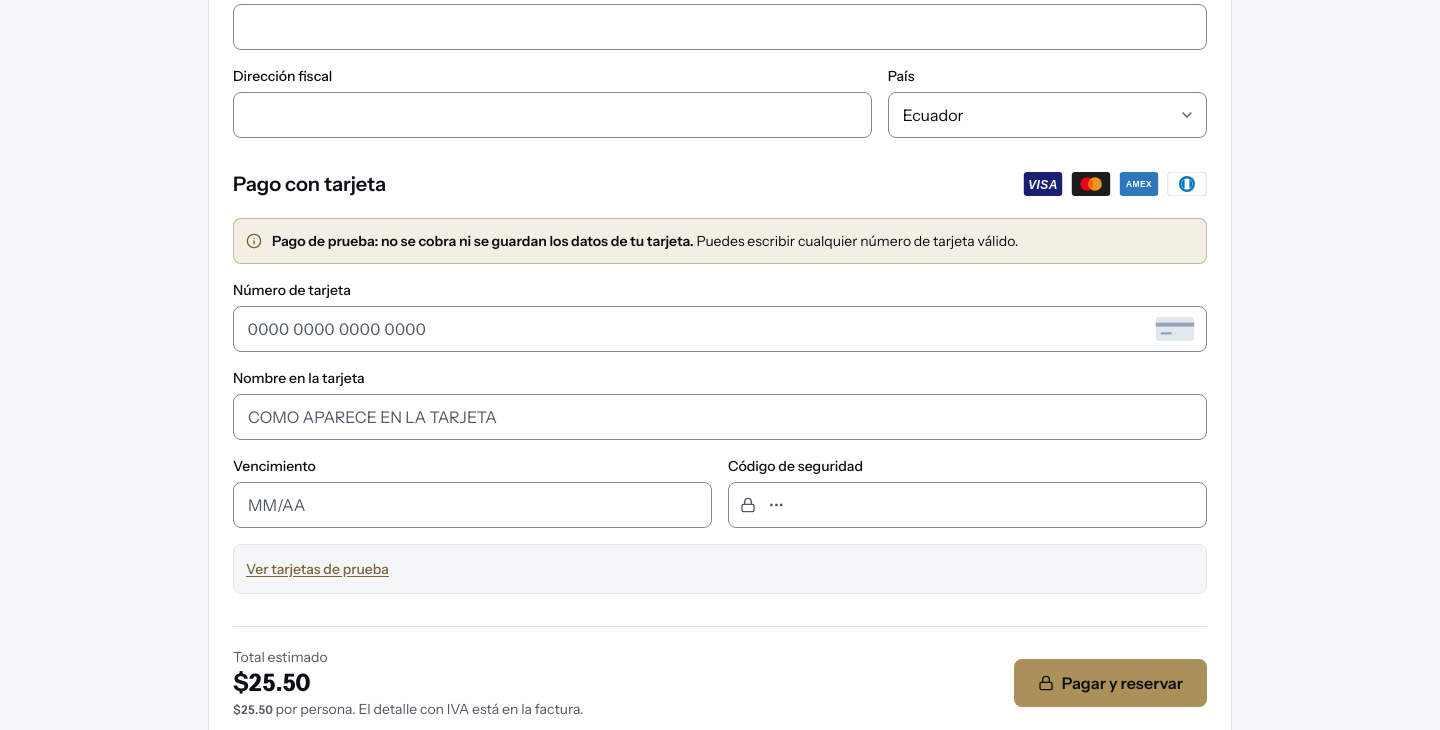
Test: Experience reservation › does not send anything until the form and the card are valid
(page scrolled)
Step 1. Click the button "Pagar y reservar" → {"x": 1110, "y": 683}, box x1=1014 y1=659 x2=1207 y2=707
(page scrolled)
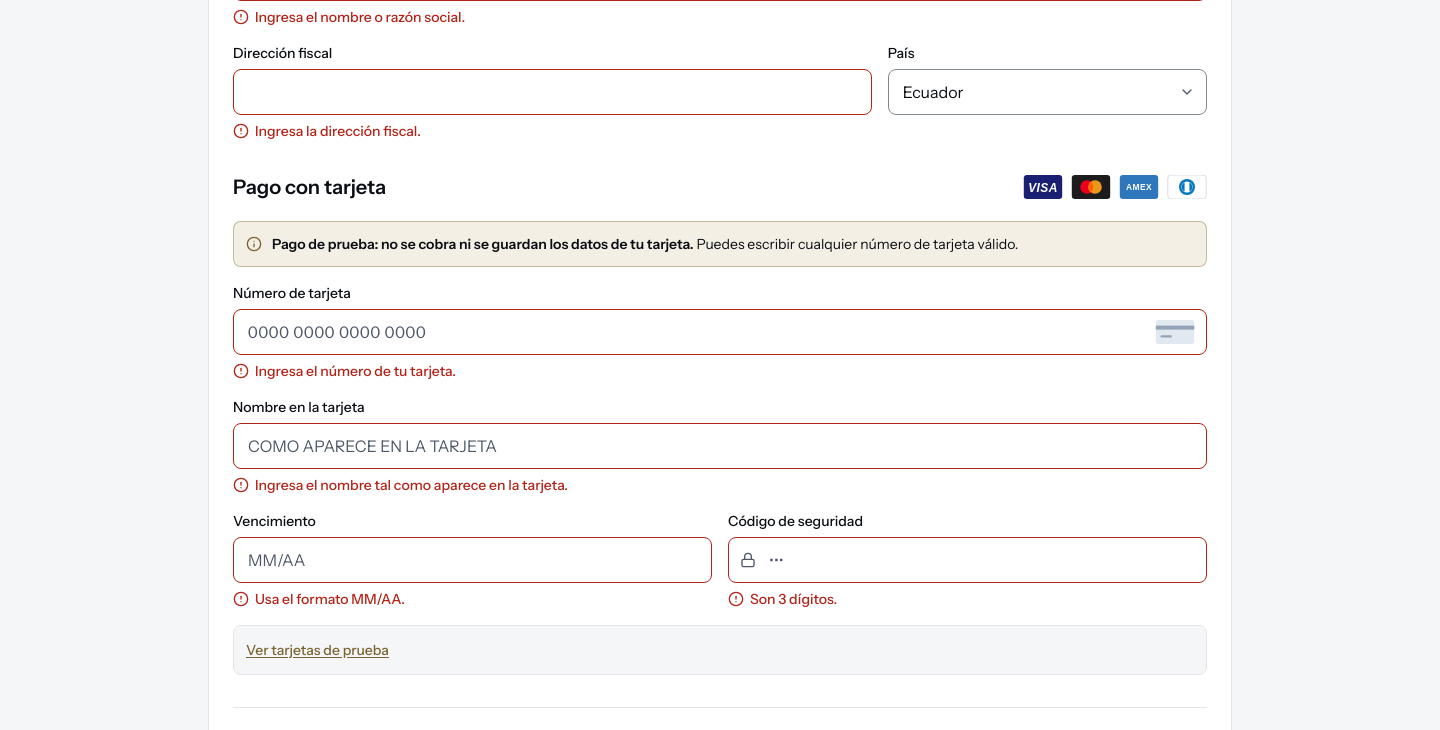
Expected: the text "Ingresa el número de tu tarjeta." is shown, x1=233 y1=362 x2=456 y2=380
